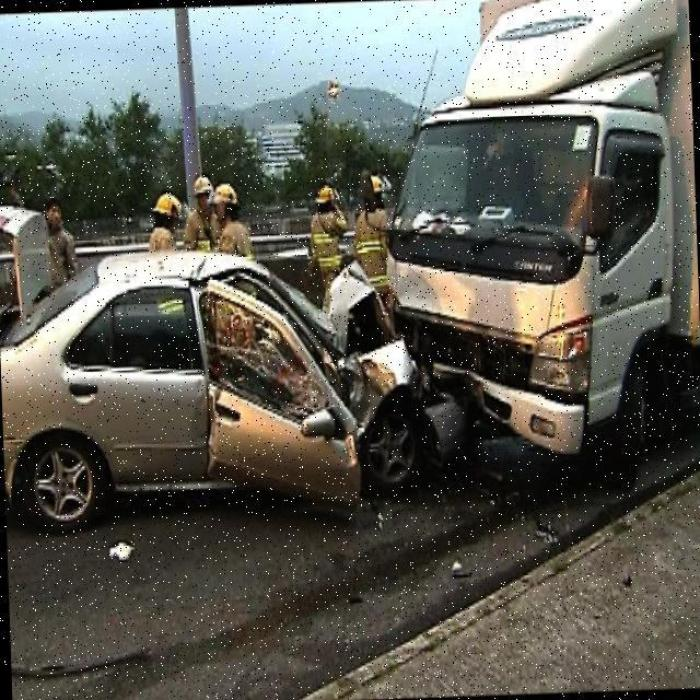Accident: (188, 218, 606, 527)
